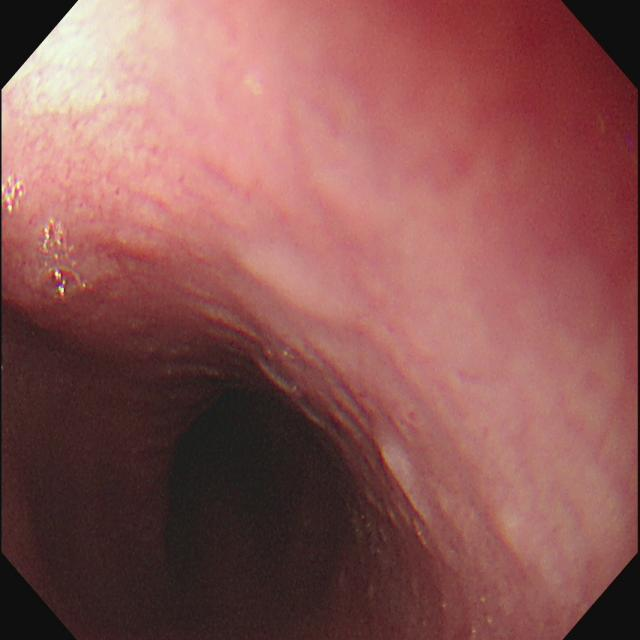E: (140, 346, 374, 640)
T: (35, 221, 93, 305), (3, 172, 29, 215)
